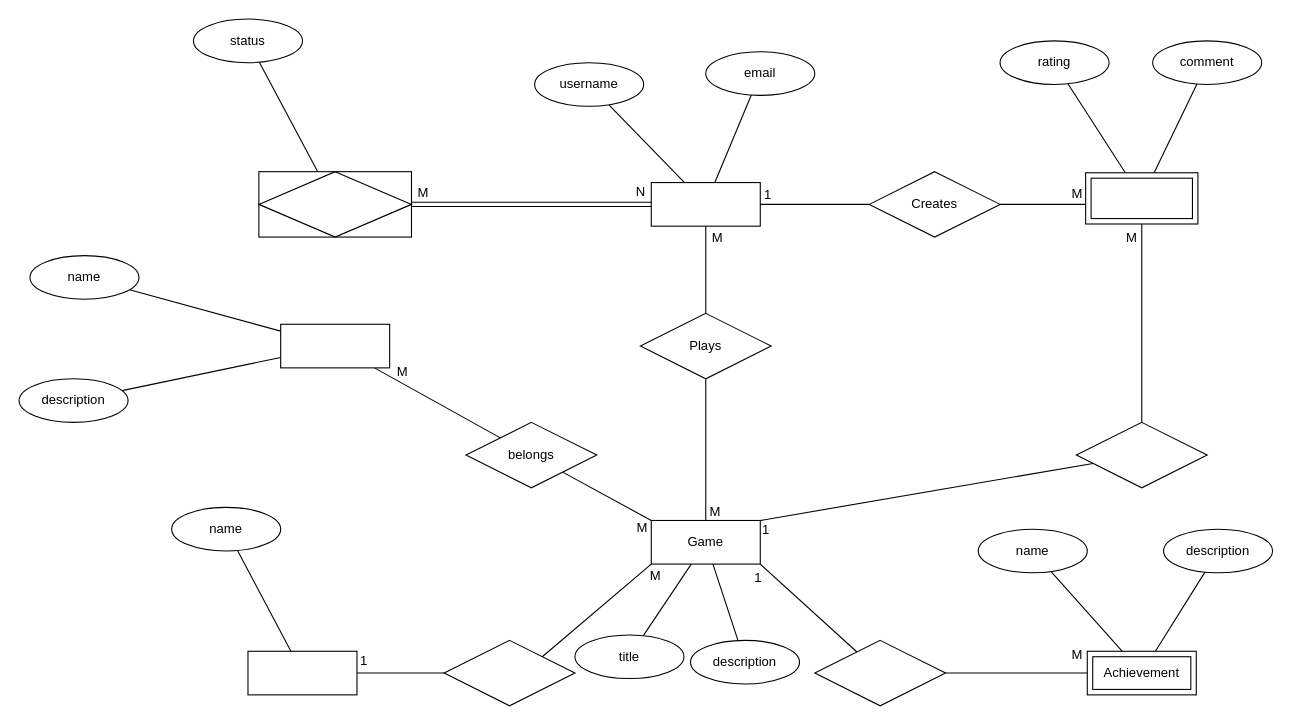
This 1292x725 diagram has some shape labels left out. Here are the shapes that lost their labels. From the top down, the box of each, then its label:
(258, 171, 411, 237): Friendship
(650, 181, 760, 226): User
(1085, 172, 1198, 224): Review
(280, 323, 390, 368): Genre
(1075, 421, 1207, 488): have
(247, 650, 357, 695): Developer
(443, 639, 575, 706): Creates/Post
(814, 639, 946, 706): has
